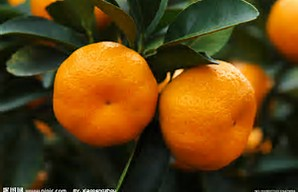orange: (158, 55, 255, 171), (51, 39, 157, 142)
